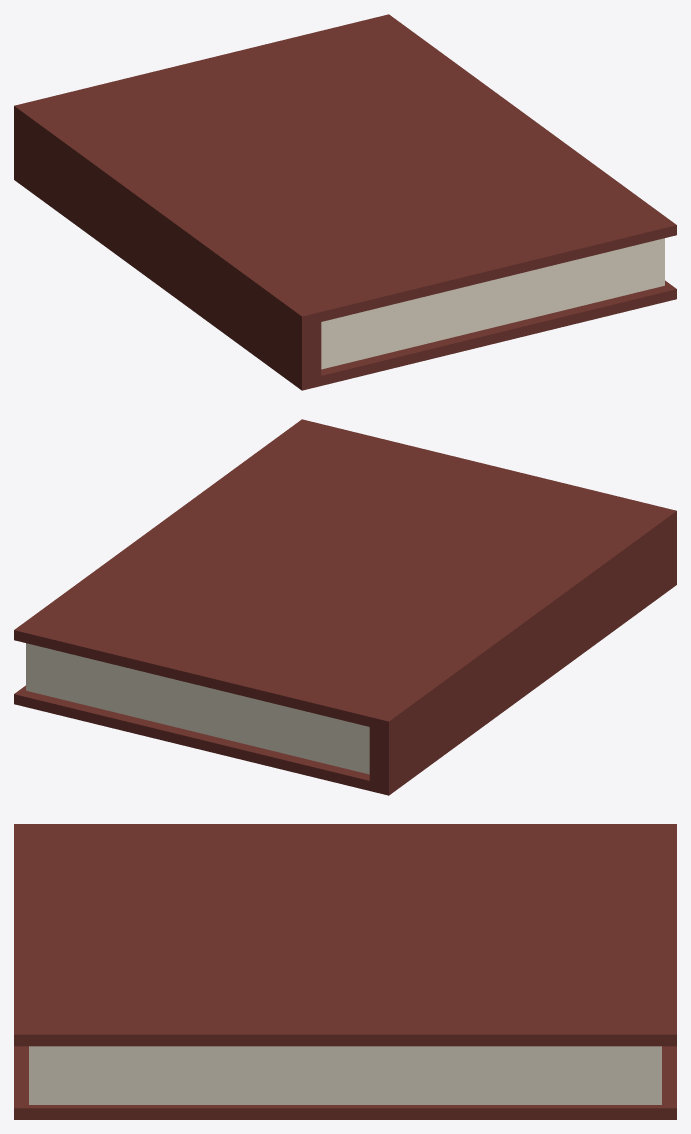
Rendered from Prop_Logbook.fbx.
3 views of the same model, one above another, from view 1: azimuth 30°, elevation 25°; view 2: azimuth 150°, elevation 25°; view 3: azimuth 270°, elevation 25° (orthographic). The views are drawn at different scales.
Parts seen in each view (by area): view 1: Logbook_Cover, Logbook_Pages; view 2: Logbook_Cover, Logbook_Pages; view 3: Logbook_Cover, Logbook_Pages.
Part boxes in pixels (box(x1,y1,x2,y2)): Logbook_Cover: box(14, 14, 676, 390); Logbook_Pages: box(321, 238, 664, 369); Logbook_Cover: box(14, 419, 676, 795); Logbook_Pages: box(26, 643, 369, 774); Logbook_Cover: box(14, 824, 676, 1119); Logbook_Pages: box(29, 1046, 661, 1104).
Size of the model in its own units: 0.233 by 0.044 by 0.31.
